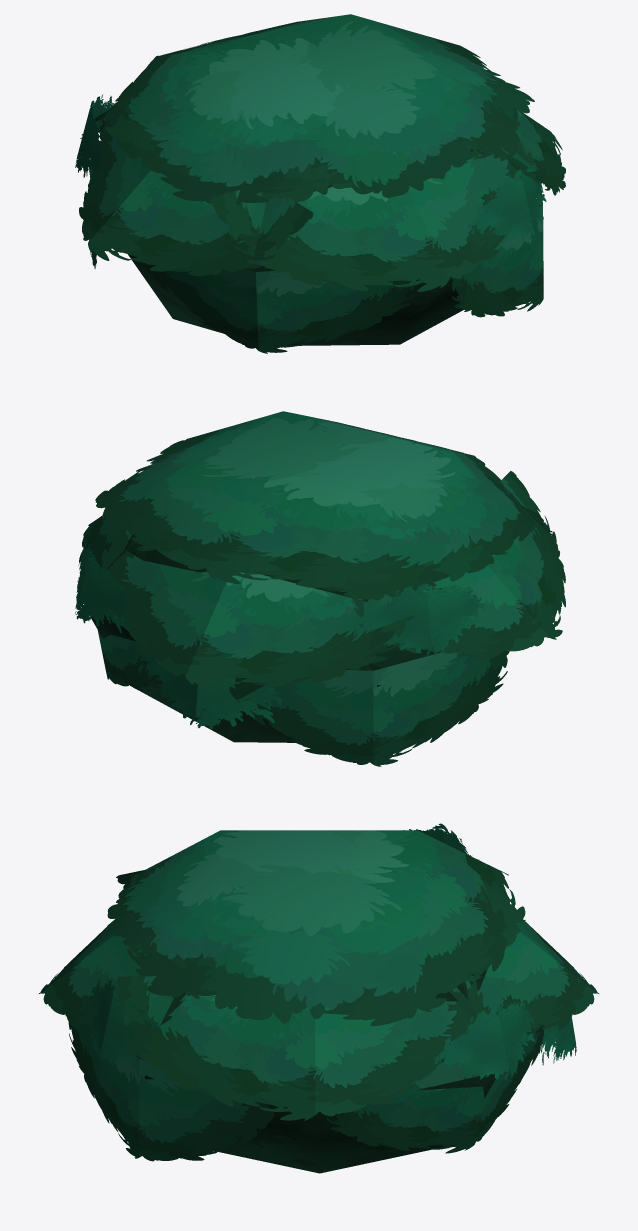
Rendered from juniper_02.fbx.
3 renders of one model, top to bottom at view 1: azimuth 30°, elevation 25°; view 2: azimuth 150°, elevation 25°; view 3: azimuth 270°, elevation 25°, orthographic. The views are drawn at different scales.
Visible parts, largest first — view 1: Plane, Plane.001, Plane.002, Plane.004, Plane.003, Cube, Plane.008, Plane.009; view 2: Plane, Plane.001, Plane.003, Plane.002, Plane.009, Plane.005, Cube, Plane.007, Plane.006; view 3: Plane, Plane.002, Plane.001, Plane.003, Plane.006, Cube, Plane.007, Plane.008, Plane.005, Plane.009.
Boxes of the visible parts, <box> form: Plane: <box>97,14,534,204</box>; Plane.001: <box>80,107,532,291</box>; Plane.002: <box>79,110,565,275</box>; Plane.004: <box>141,262,414,353</box>; Plane.003: <box>90,169,543,317</box>; Cube: <box>93,146,543,345</box>; Plane.008: <box>468,164,546,240</box>; Plane.009: <box>75,94,115,187</box>; Plane: <box>95,411,541,600</box>; Plane.001: <box>102,436,554,688</box>; Plane.003: <box>229,650,509,766</box>; Plane.002: <box>79,471,565,660</box>; Plane.009: <box>352,583,484,655</box>; Plane.005: <box>138,654,282,729</box>; Cube: <box>90,534,440,742</box>; Plane.007: <box>75,543,129,633</box>; Plane.006: <box>97,606,165,690</box>; Plane: <box>107,830,525,1025</box>; Plane.002: <box>116,870,490,1120</box>; Plane.001: <box>39,901,598,1029</box>; Plane.003: <box>68,1022,274,1161</box>; Plane.006: <box>327,1025,549,1153</box>; Cube: <box>134,969,523,1173</box>; Plane.007: <box>433,1001,535,1080</box>; Plane.008: <box>90,978,159,1070</box>; Plane.005: <box>540,1016,576,1065</box>; Plane.009: <box>403,823,479,859</box>.
Bounding box in the file's own units: 243 × 103 × 241.
